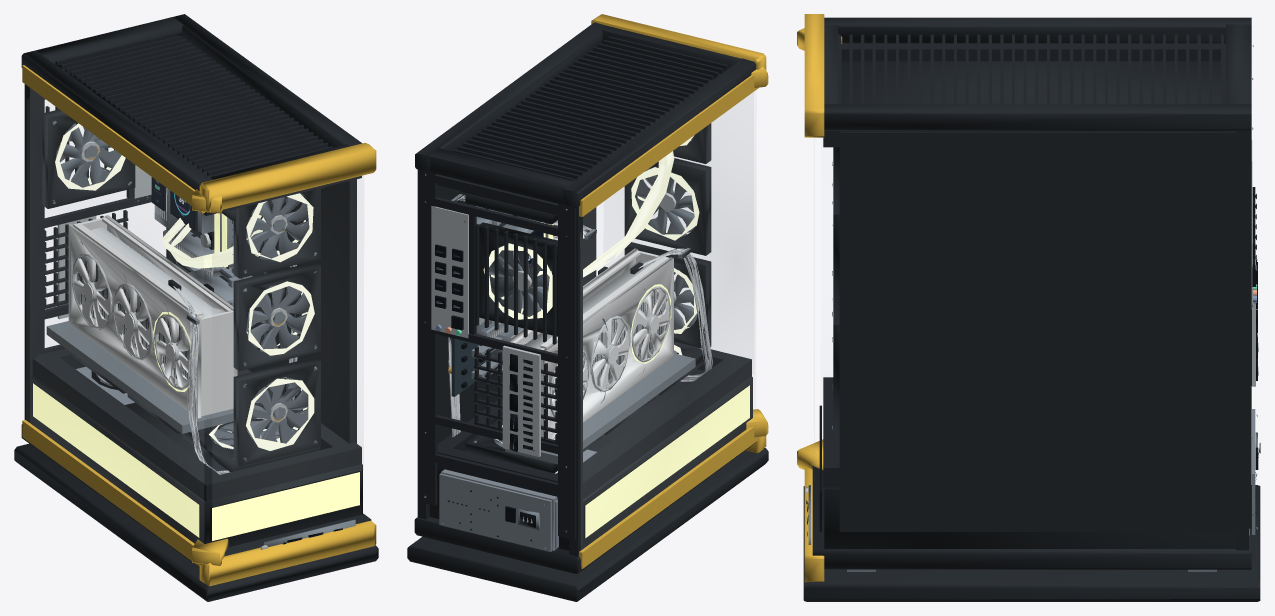
Rendered from display88-gold.glb.
The picture shows the model from 3 angles, left to right: view 1: azimuth 30°, elevation 25°; view 2: azimuth 150°, elevation 25°; view 3: azimuth 270°, elevation 25°; orthographic projection. The views are drawn at different scales.
Visible parts, largest first — view 1: s83-surface-c68be824-7ced-4737-8df1-816e650b5bf5, s83-surface-f81b631f-5621-480c-b53b-a9ed2978ec8d, s83-surface-f2bc39d1-3dea-4d5d-bf3e-d61578aa67d5, s83-fan-1, s83-fan-2, s83-surface-63fa4c72-a32b-48b1-9a24-3471a6f8a7d1; view 2: s83-surface-c68be824-7ced-4737-8df1-816e650b5bf5, s83-surface-16aaa72e-1187-4b3c-8bfd-228a585db3b1, s83-surface-f81b631f-5621-480c-b53b-a9ed2978ec8d, s83-surface-f2bc39d1-3dea-4d5d-bf3e-d61578aa67d5, s83-fan-2; view 3: s83-surface-c68be824-7ced-4737-8df1-816e650b5bf5.
Part boxes in pixels (left/top/right/bottom): s83-surface-c68be824-7ced-4737-8df1-816e650b5bf5: left=14, top=14, right=378, bottom=601; s83-surface-f81b631f-5621-480c-b53b-a9ed2978ec8d: left=33, top=213, right=359, bottom=540; s83-surface-f2bc39d1-3dea-4d5d-bf3e-d61578aa67d5: left=55, top=123, right=314, bottom=450; s83-fan-1: left=73, top=253, right=111, bottom=330; s83-fan-2: left=113, top=285, right=152, bottom=360; s83-surface-63fa4c72-a32b-48b1-9a24-3471a6f8a7d1: left=171, top=191, right=193, bottom=228; s83-surface-c68be824-7ced-4737-8df1-816e650b5bf5: left=407, top=14, right=768, bottom=601; s83-surface-16aaa72e-1187-4b3c-8bfd-228a585db3b1: left=603, top=92, right=754, bottom=374; s83-surface-f81b631f-5621-480c-b53b-a9ed2978ec8d: left=541, top=222, right=749, bottom=537; s83-surface-f2bc39d1-3dea-4d5d-bf3e-d61578aa67d5: left=483, top=135, right=699, bottom=443; s83-fan-2: left=590, top=316, right=629, bottom=392; s83-surface-c68be824-7ced-4737-8df1-816e650b5bf5: left=797, top=14, right=1260, bottom=601.
Bounding box in the file's own units: 1.37 × 2.99 × 2.56.
6 materials, 5 textured.
